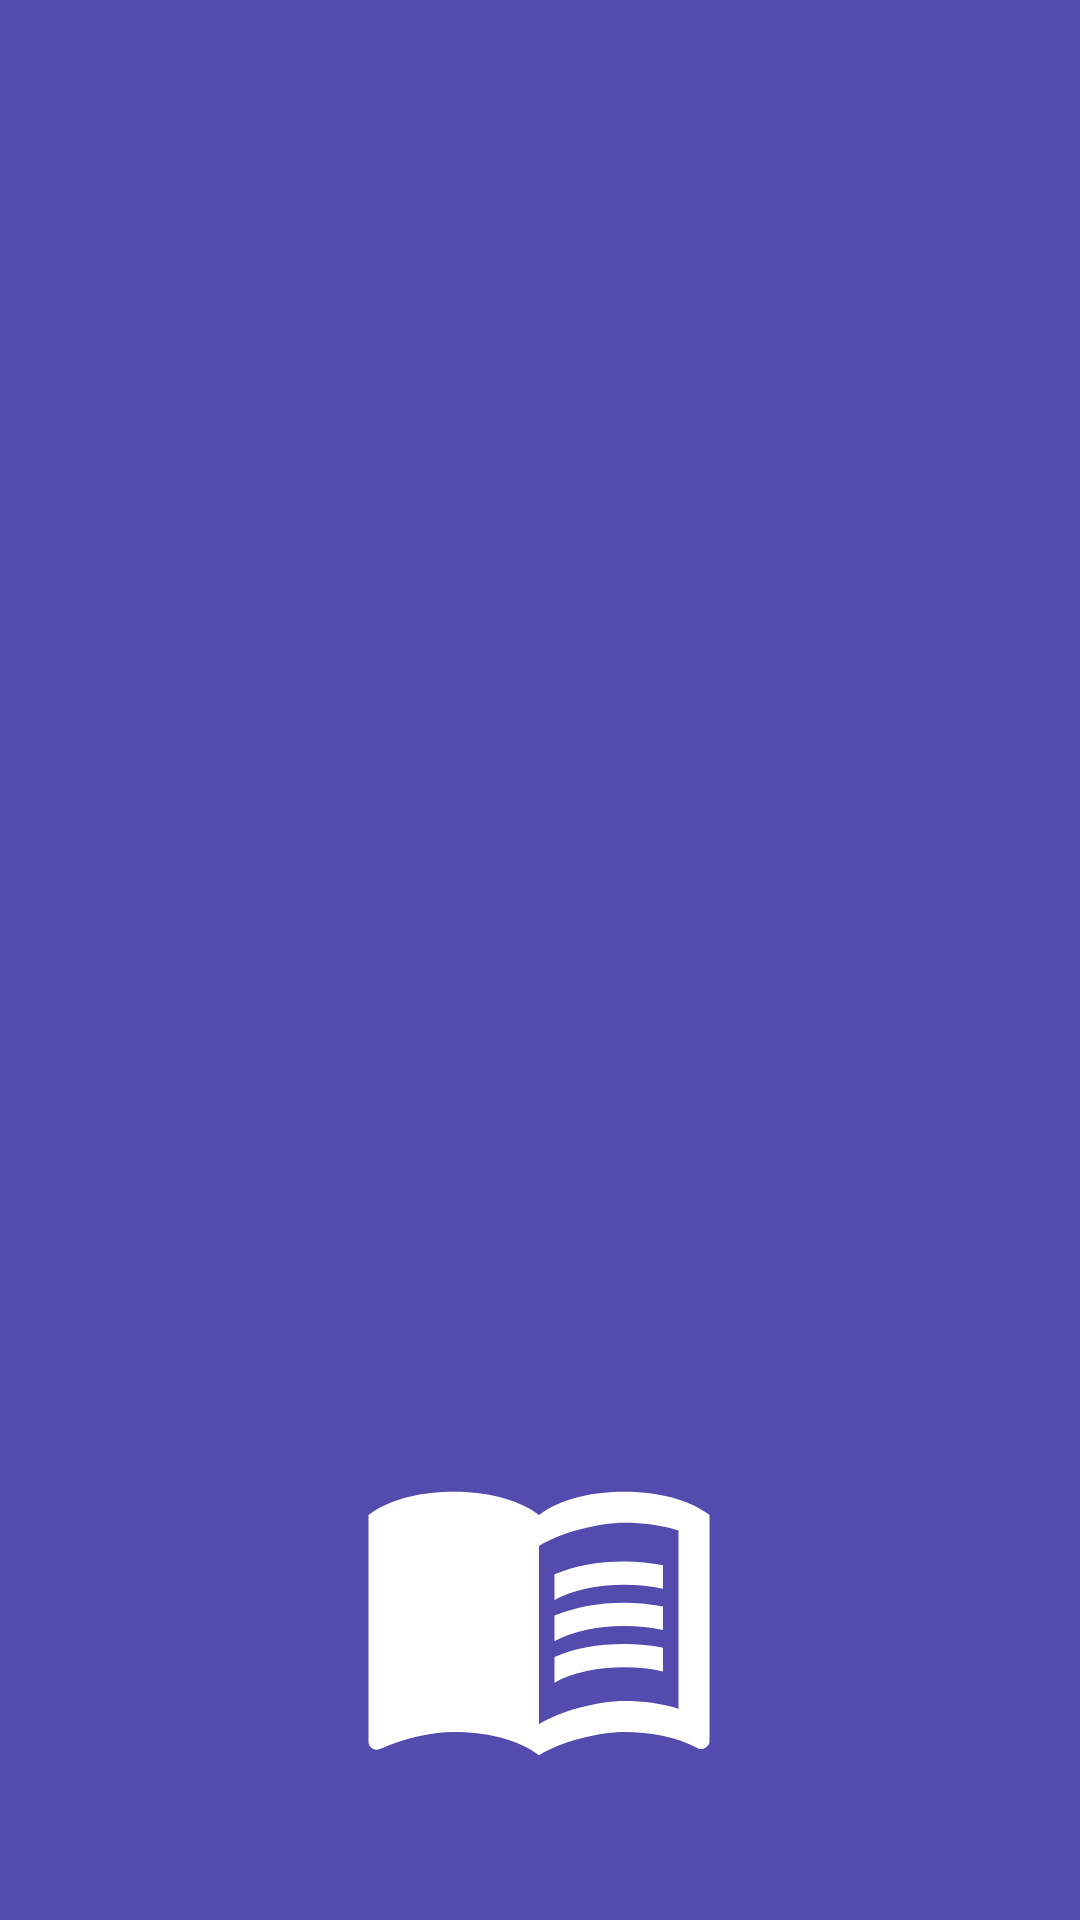

Where icons sit on this 1080px×1920px app screen, as (x1, y1, x2, y2):
book: (368, 1491, 710, 1755)
